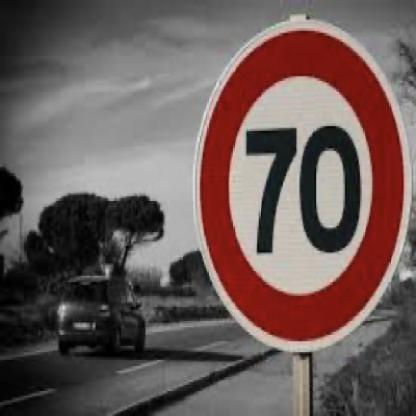speedlimit: (188, 17, 408, 348)
